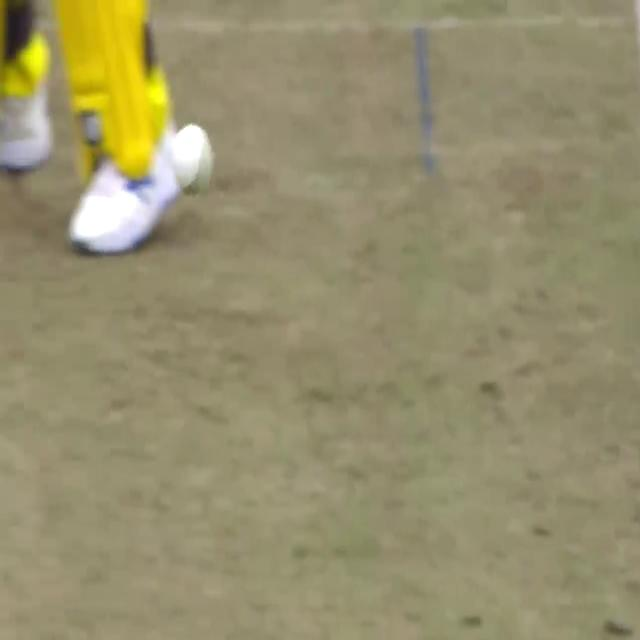ball: (167, 122, 217, 194)
